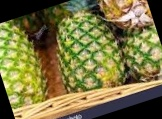Pineapple: (61, 2, 129, 92)
